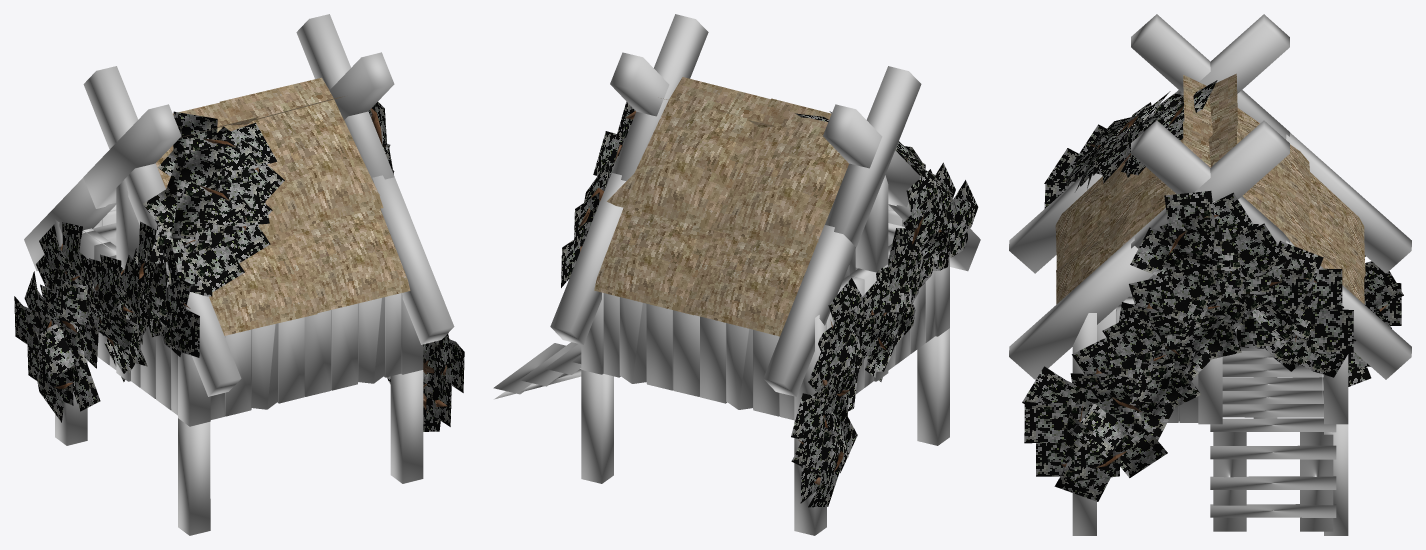
File: DevHouse1.fbx
3 renders of one model, left to right at view 1: azimuth 30°, elevation 25°; view 2: azimuth 150°, elevation 25°; view 3: azimuth 270°, elevation 25°, orthographic. The views are drawn at different scales.
Parts seen in each view (by area): view 1: _Combined_Mesh__high__42; view 2: _Combined_Mesh__high__42; view 3: _Combined_Mesh__high__42.
Part boxes in pixels (box(x1,y1,x2,y2)): _Combined_Mesh__high__42: box(14, 14, 464, 535); _Combined_Mesh__high__42: box(493, 14, 980, 535); _Combined_Mesh__high__42: box(1009, 14, 1411, 535).
Size of the model in its own units: 656 by 712 by 641.
